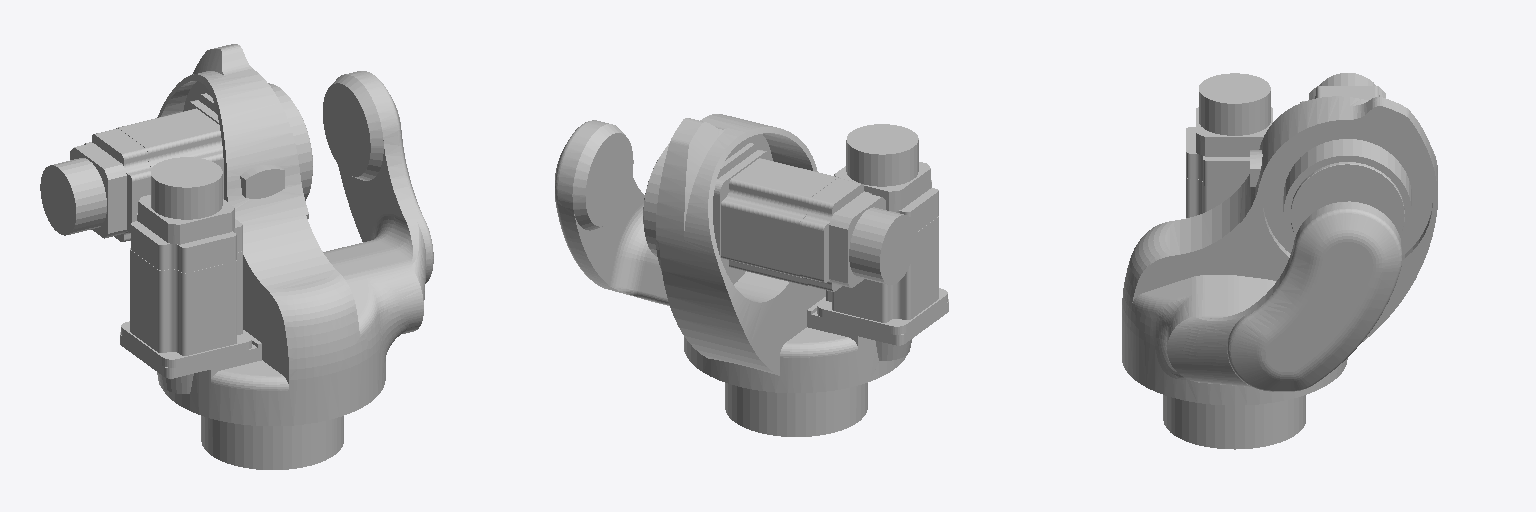
3 views of the same model, side by side, from view 1: azimuth 30°, elevation 25°; view 2: azimuth 150°, elevation 25°; view 3: azimuth 270°, elevation 25° (orthographic).
Parts seen in each view (by area): view 1: transform3; view 2: transform3; view 3: transform3.
Boxes of the visible parts, <box> form: transform3: <box>40,44,433,469</box>; transform3: <box>555,114,948,436</box>; transform3: <box>1122,73,1437,449</box>.
Bounding box in the file's own units: 49.41 × 47.92 × 41.34.